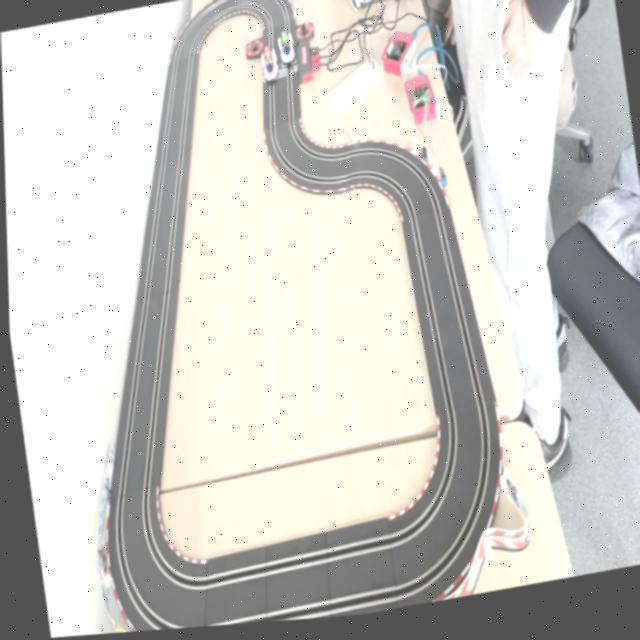mario: (258, 46, 280, 88)
yoshi: (277, 34, 297, 68)
